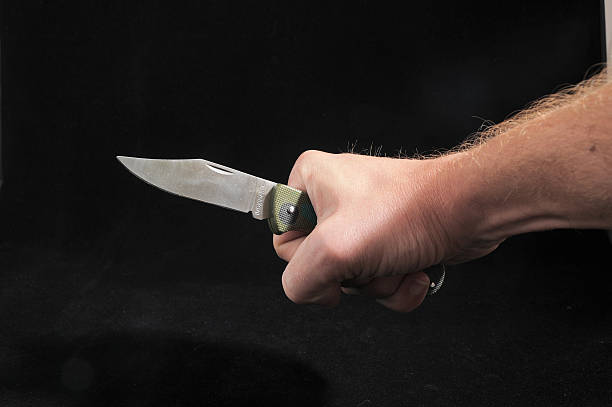knife: (113, 153, 317, 237)
